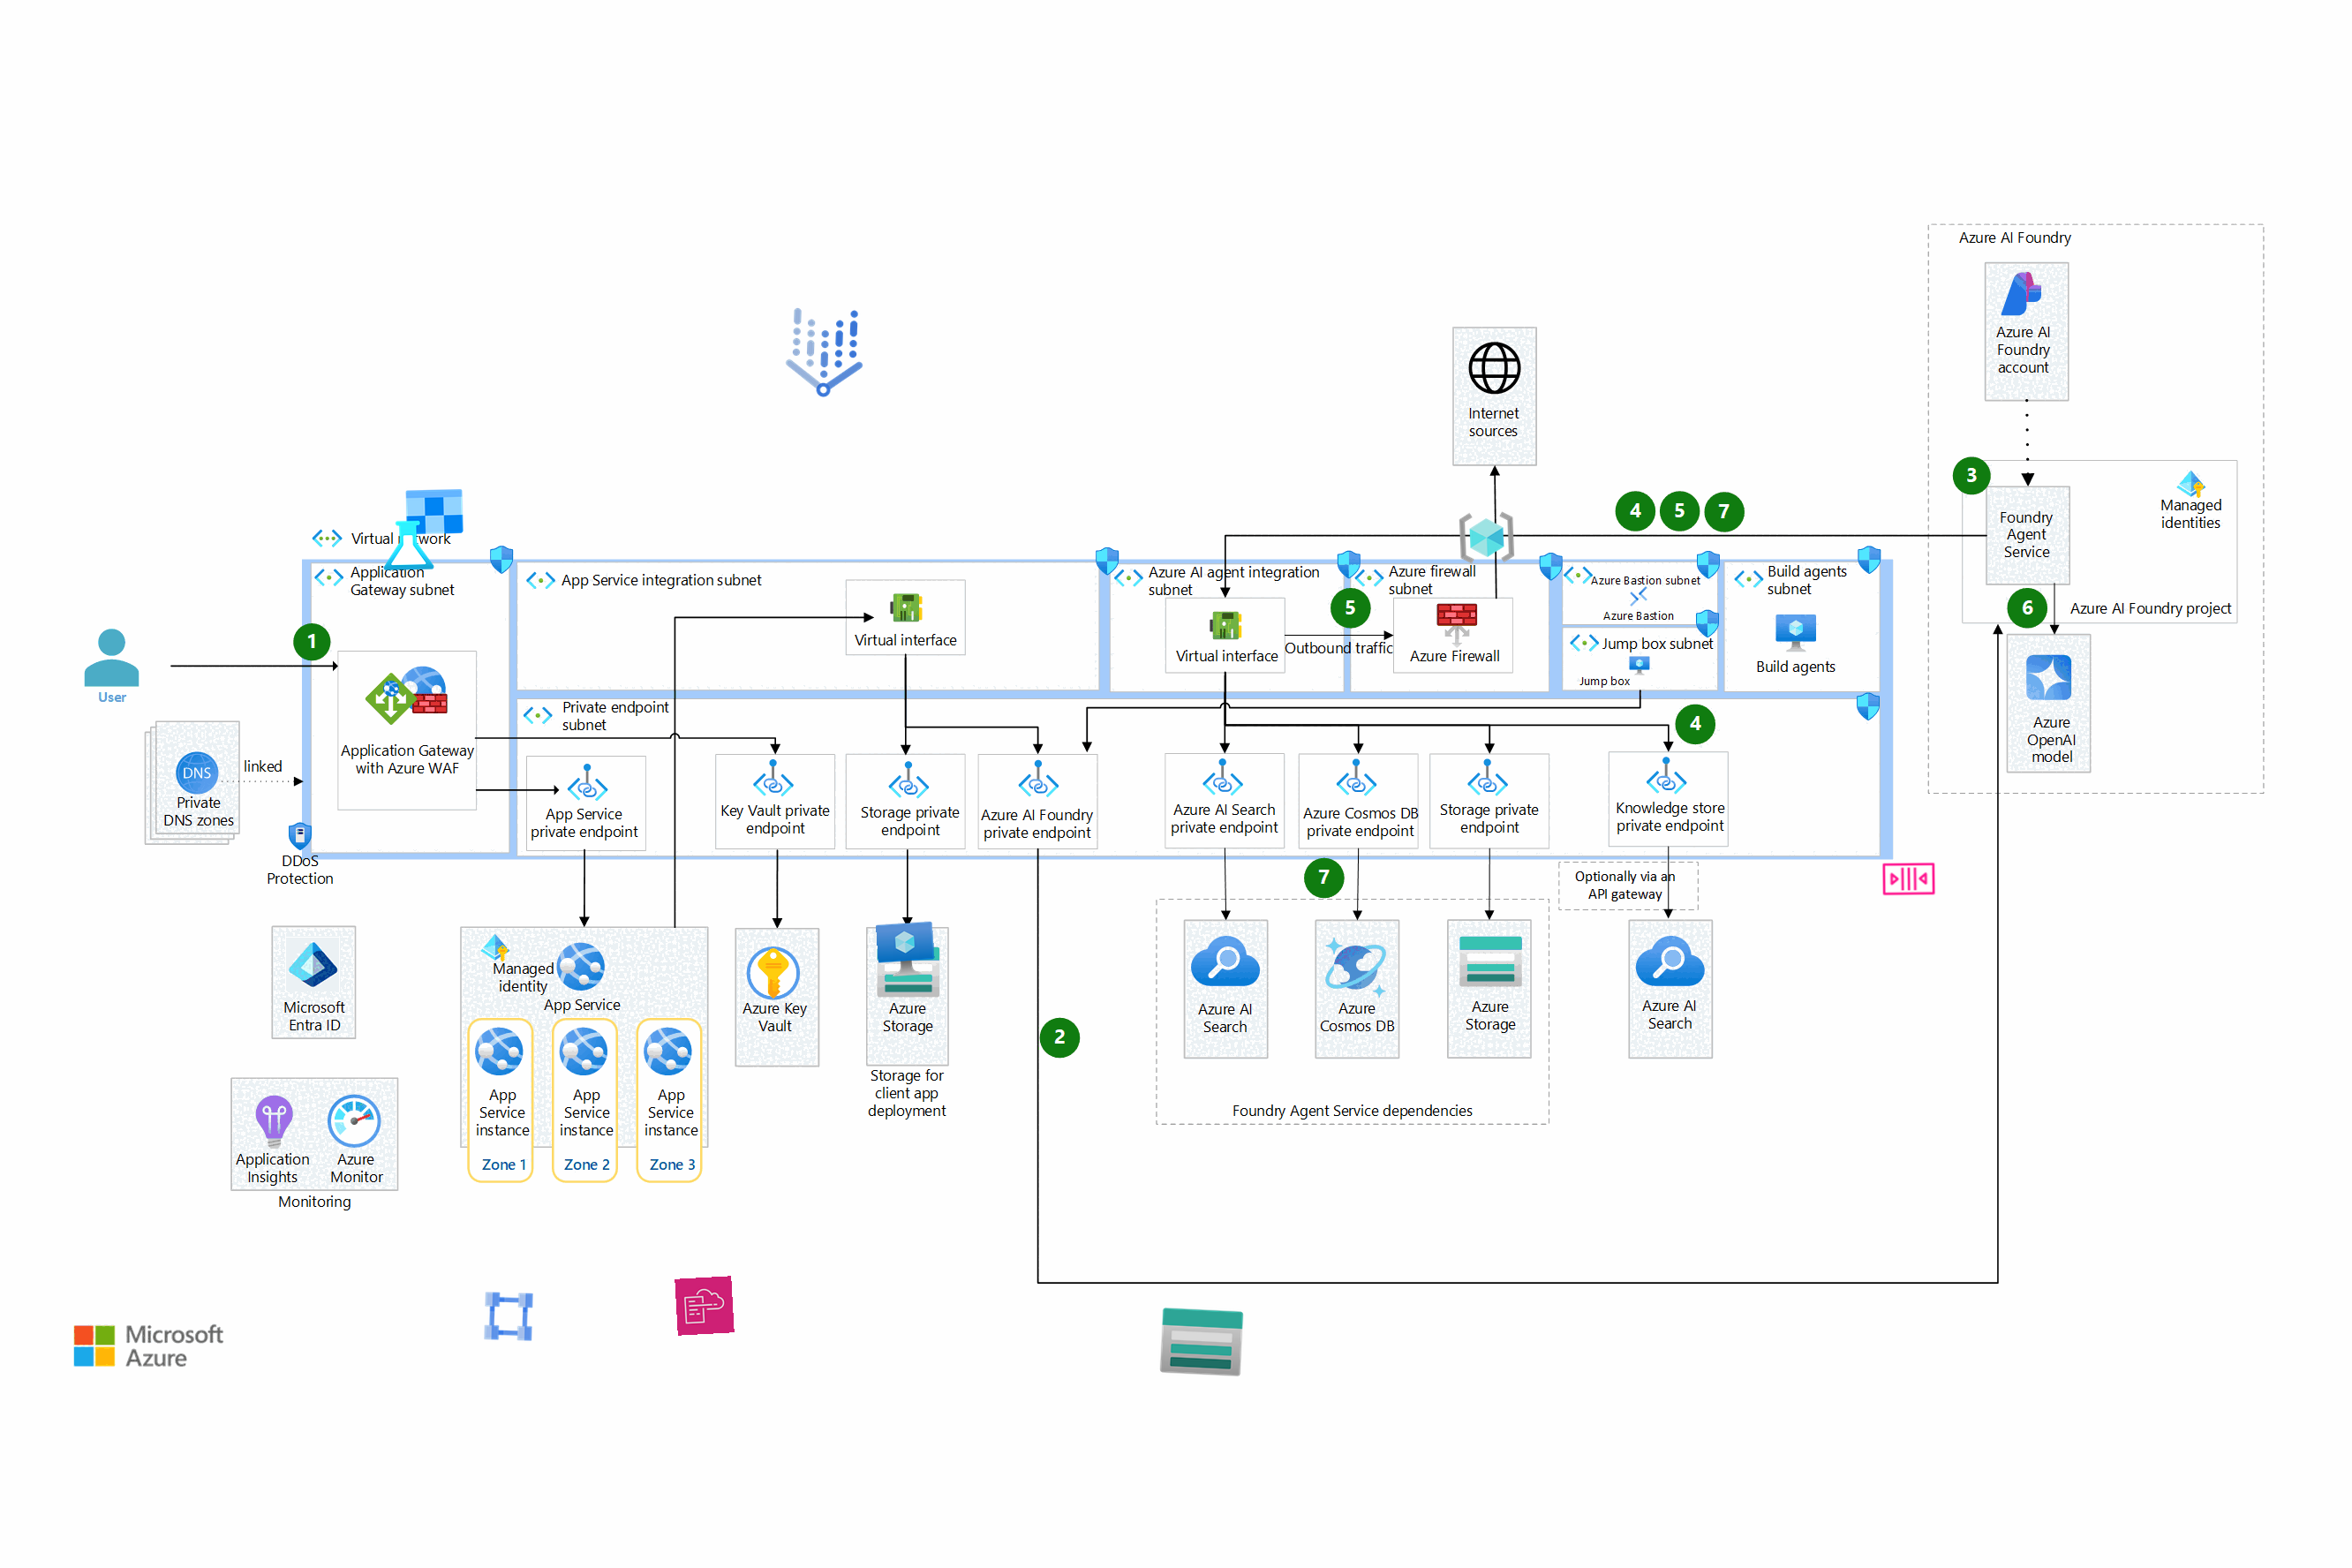aws_cloudformation: (674, 1276, 735, 1335)
aws_simple_queue_service_queue: (1879, 849, 1937, 908)
azure_machine_learning_studio_workspaces: (378, 485, 467, 574)
azure_resource_groups: (1456, 507, 1517, 567)
azure_storage_accounts: (1157, 1297, 1246, 1388)
azure_virtual_machine: (875, 920, 936, 982)
gcp_vertex_ai: (765, 294, 884, 413)
gcp_virtual_private_cloud: (479, 1288, 537, 1346)
